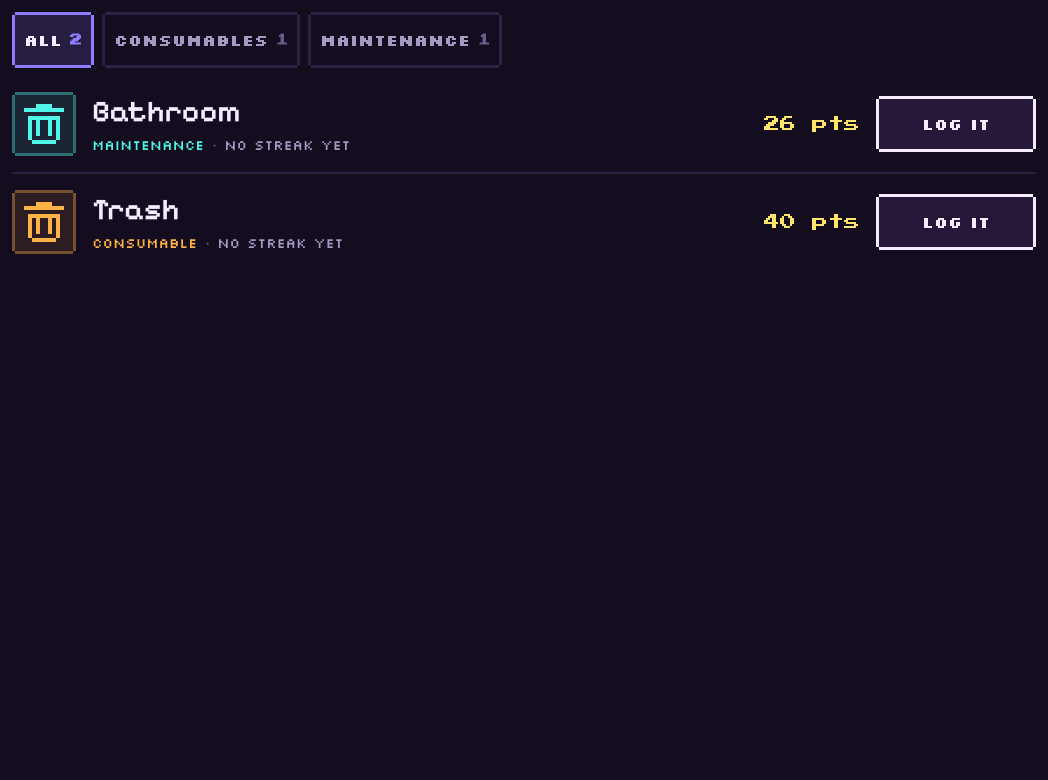
Scenario: ChoreGrid's floating score (issue #181) › stays where the row was tapped when the tab drops it
Click the button "Consumables 1".
click(201, 40)  # box [102,12,300,68]
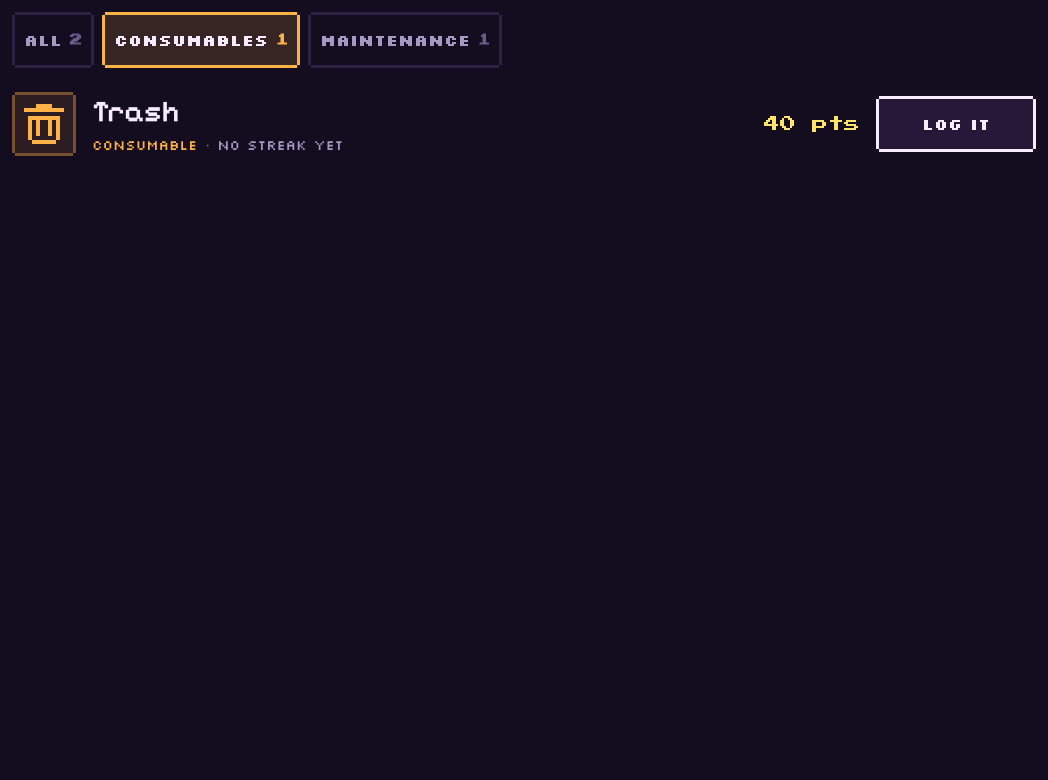
Now the list item with test id "chore-Bathroom" is gone
Click the button "Trash Consumable · No streak yet 40 pts Log it".
click(44, 124)  # box [12,76,1036,172]
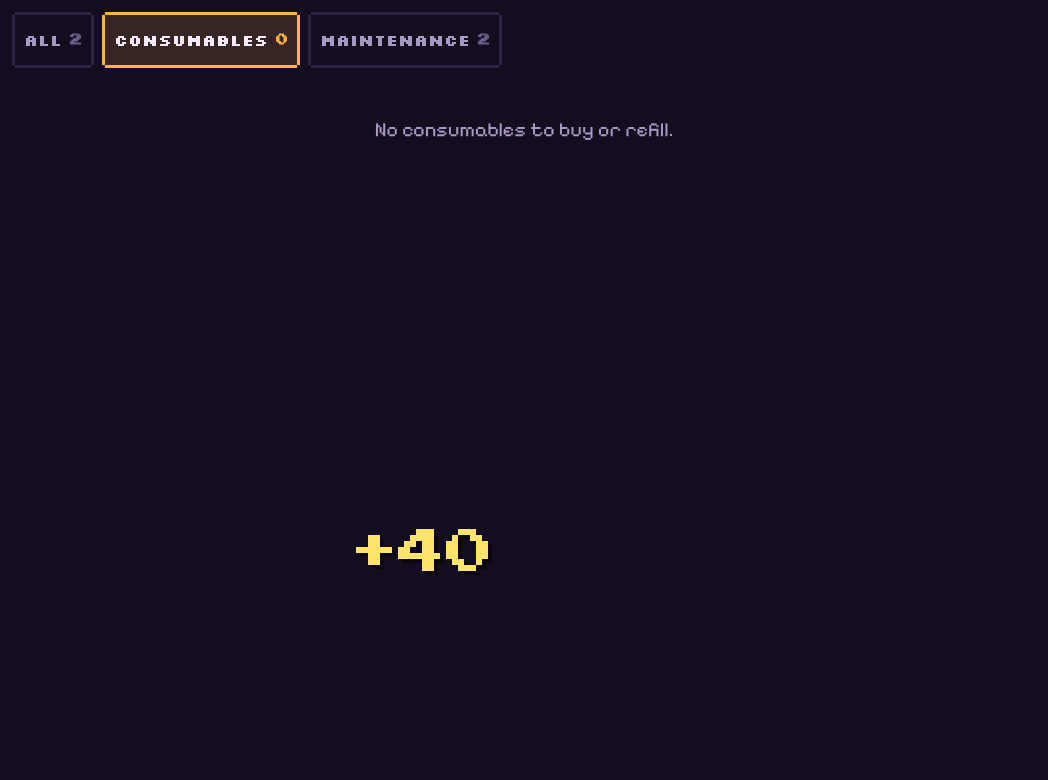
Now the list item with test id "chore-Trash" is gone
Now the number of messages with test id "score-pop" is 1, box [350,529,494,577]
Now the message with test id "score-pop" reads "+40", box [350,529,494,577]
